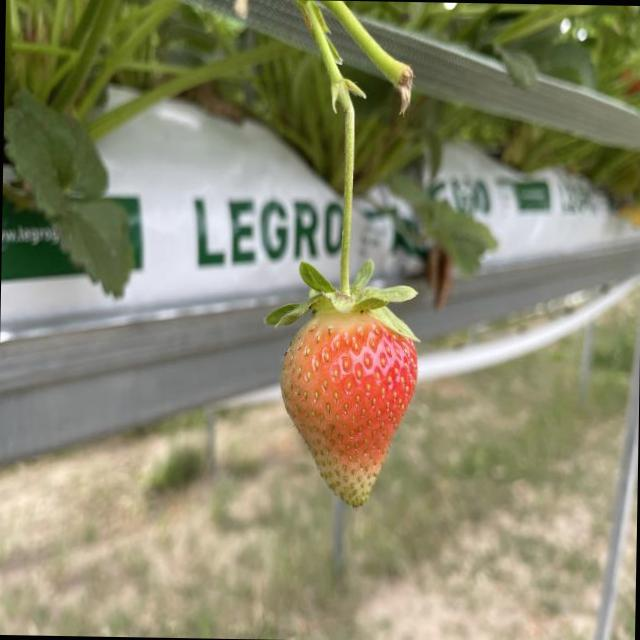stem: (271, 2, 416, 337)
strawberryR: (279, 312, 416, 504)
